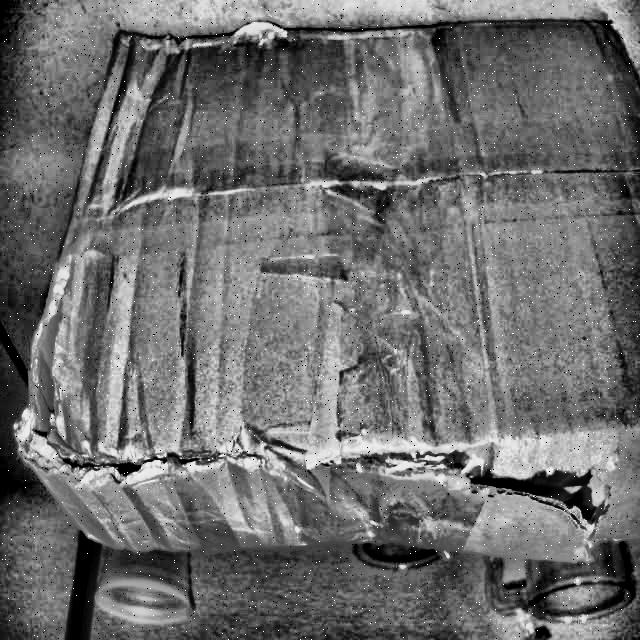box: (1, 7, 639, 578)
hole: (488, 461, 610, 535), (20, 284, 64, 468), (62, 444, 214, 477)
